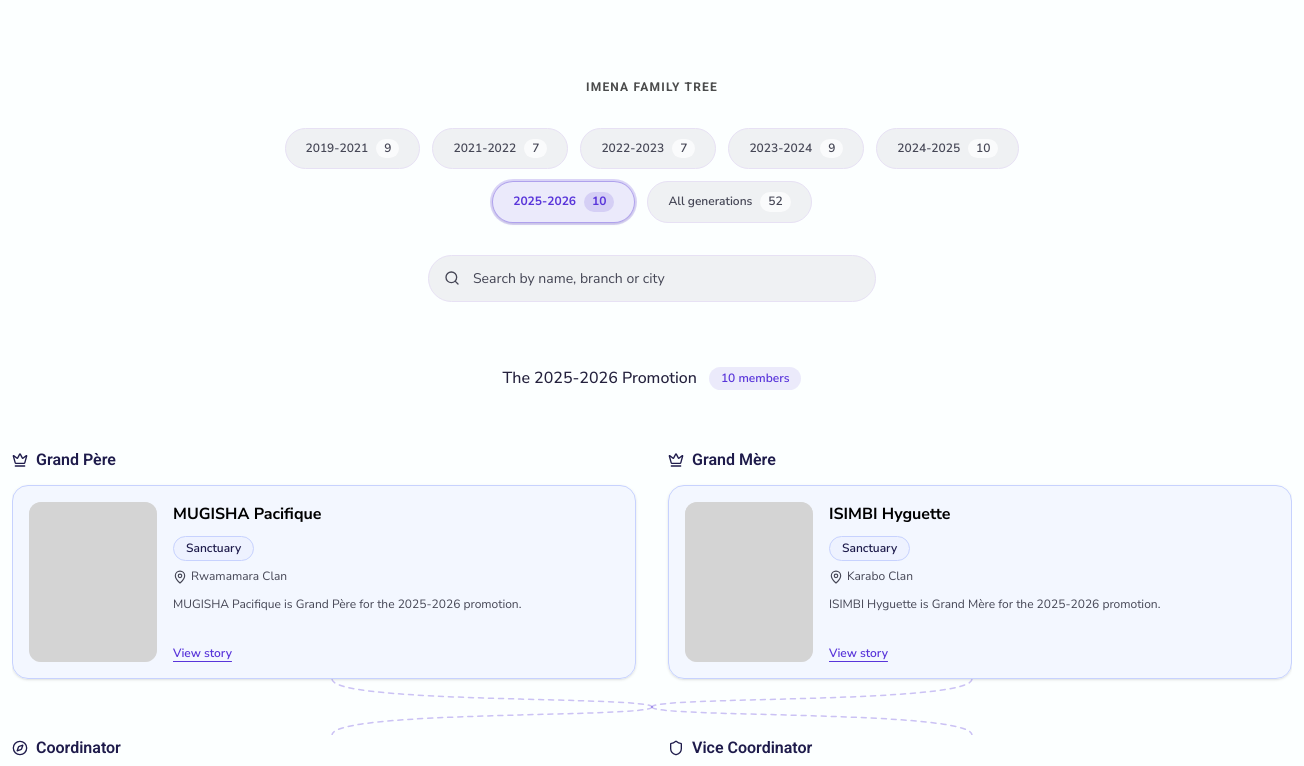
Scenario: TreeBrowser › lists every promotion under all generations
Click the button "All generations 52" at (730, 202), box left=647, top=181, right=812, bottom=223
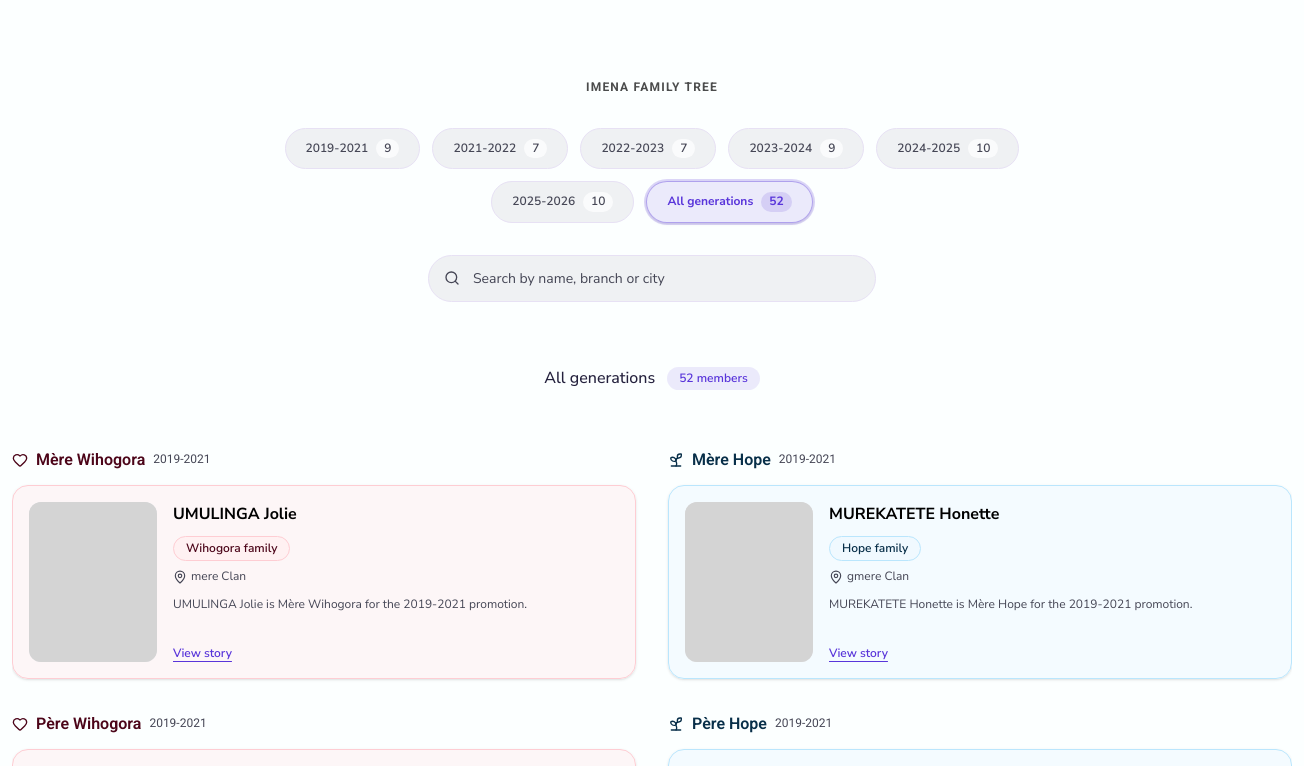
Check: the number of buttons named "view the story of" is 52
